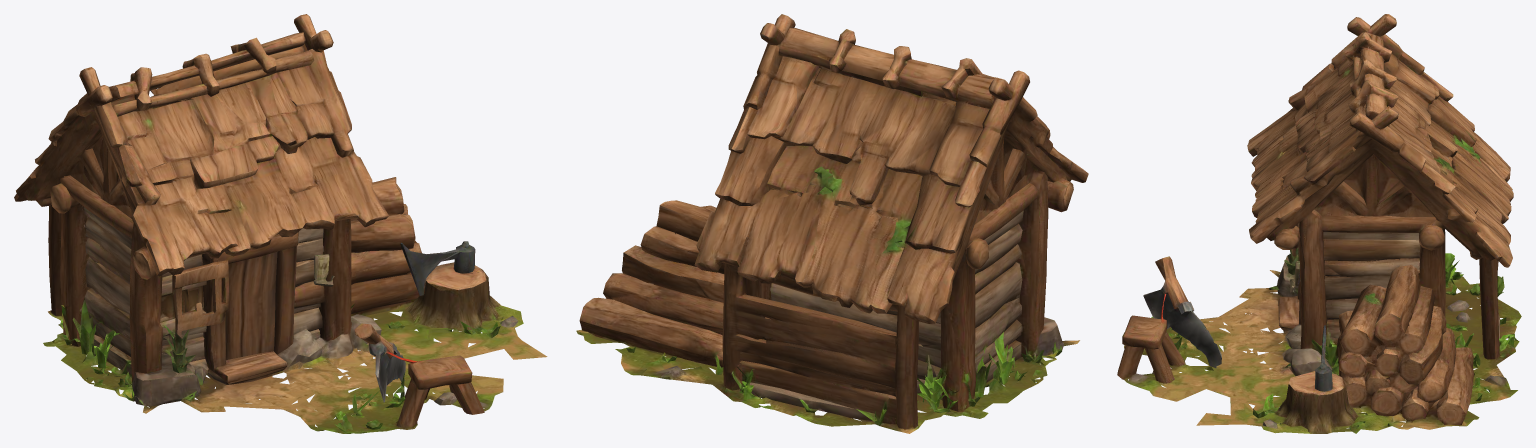
File: lumber.glb
The picture shows the model from 3 angles, left to right: view 1: azimuth 30°, elevation 25°; view 2: azimuth 150°, elevation 25°; view 3: azimuth 270°, elevation 25°; orthographic projection. The views are drawn at different scales.
Parts seen in each view (by area): view 1: lumber; view 2: lumber; view 3: lumber.
Part boxes in pixels (x1,y1,x2,y2): lumber: (14,14,547,433); lumber: (576,14,1088,433); lumber: (1117,14,1521,433).
Bounding box in the file's own units: 1.35 × 0.9698 × 1.36.
1 material, 1 textured.
